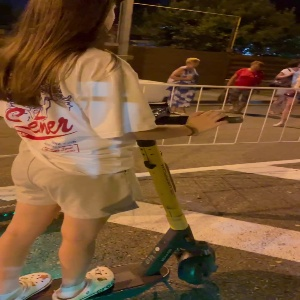human on a scooter: (1, 1, 245, 300)
